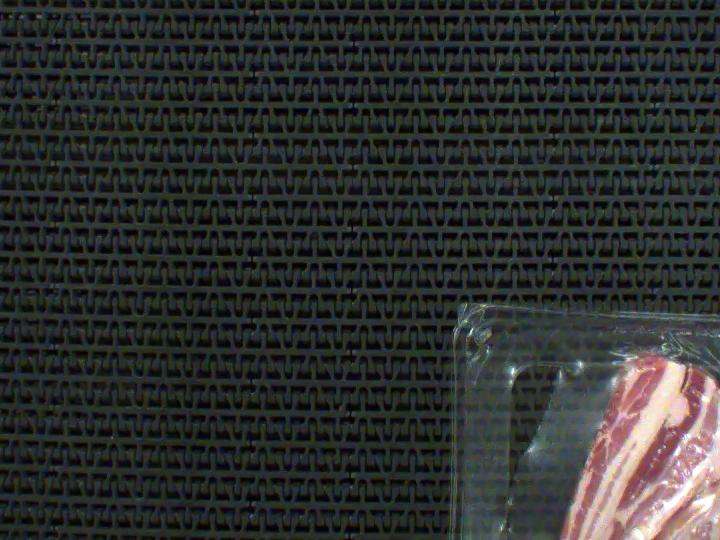unsealed: (495, 325, 720, 540)
